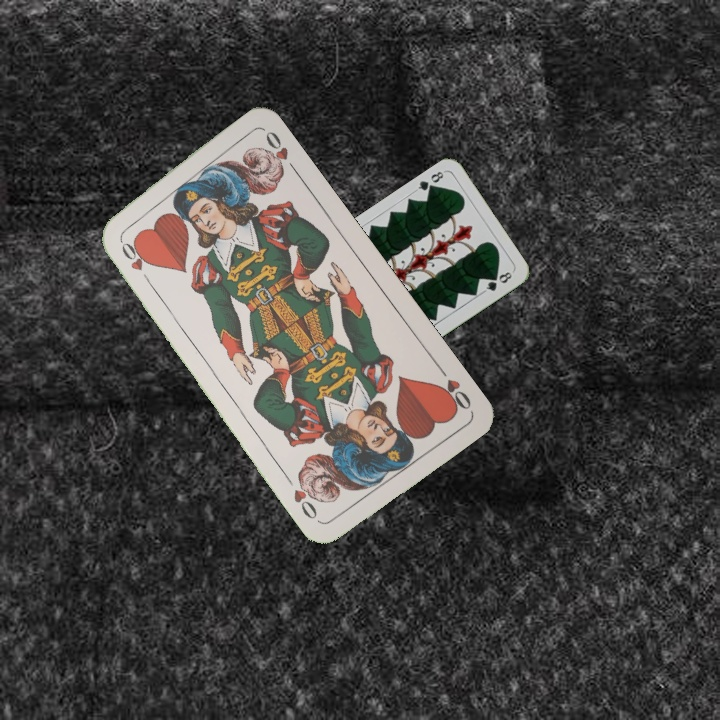G8: (411, 166, 447, 196)
HO: (434, 361, 474, 413), (115, 235, 154, 288)
